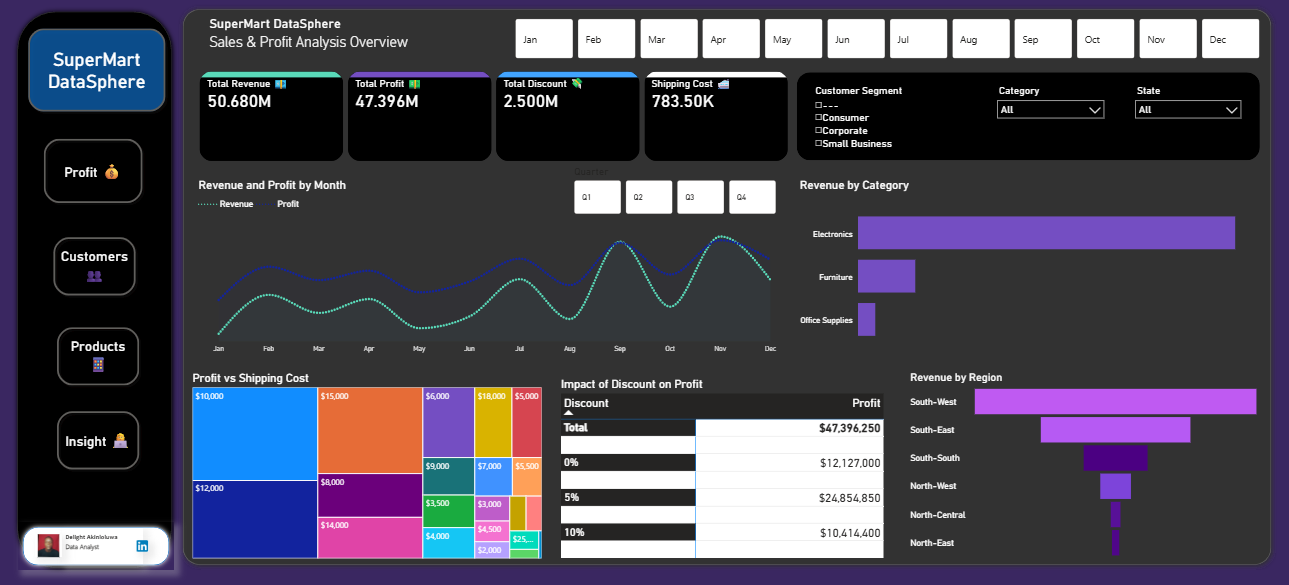

Layout of this report page (visuals, bound fields, positions):
{"tool":"powerbi","page":{"name":"SuperMart DataSphere","canvas":[2150,980],"ordinal":0},"visuals":[{"type":"shape","box":[295,7.5,1831.5,944],"z":0,"group":"g6"},{"type":"shape","box":[20,12.5,275,945],"z":0},{"type":"group","id":"g1","title":"Group 2","box":[315.1,28.4,1016.9,260.7],"z":0,"group":"g2"},{"type":"group","id":"g2","title":"Group 7","box":[315.1,28.4,1788.7,260.7],"z":0,"group":"g7"},{"type":"cardVisual","fields":{"Data":["Calculations.Total Revenue","Calculations.Total Profit","Sum(Calculations.Total Discount)","Calculations.Total Loss"]},"box":[315.1,104.1,1017.6,183.4],"z":0,"group":"g1"},{"type":"group","id":"g3","title":"Group 4","box":[1326.4,122.8,771.8,147],"z":0,"group":"g8"},{"type":"shape","box":[1326.4,122.8,771.8,147],"z":0,"group":"g3"},{"type":"listSlicer","fields":{"Values":["SuperMart Sales.CustomerSegment"]},"box":[1351.9,142.4,288.4,114.7],"z":0,"group":"g9"},{"type":"actionButton","title":"Profit BT","box":[63.3,223.3,182.5,125],"z":0,"group":"g15"},{"type":"lineChart","fields":{"Category":["Calendar_Date.Month"],"Y":["Sum(SuperMart Sales.Revenue)"],"Y2":["Sum(SuperMart Sales.Profit)"]},"box":[325.5,299.6,996.7,300.3],"z":0,"group":"g10"},{"type":"clusteredBarChart","title":"Revenue by Category","fields":{"Category":["SuperMart Sales.Category"],"Y":["Sum(SuperMart Sales.Revenue)"]},"box":[1328.2,299.6,775.5,300.3],"z":0,"group":"g13"},{"type":"actionButton","title":"Customer SBT","box":[78.3,385.8,155,115],"z":0,"group":"g11"},{"type":"group","id":"g4","title":"Product Button Group","box":[68.3,530.8,182.5,125],"z":0,"group":"g18"},{"type":"treemap","title":"Profit vs Shipping Cost","fields":{"Group":["SuperMart Sales.ShippingCost"],"Values":["Sum(SuperMart Sales.Profit)"]},"box":[315.1,620.7,592.1,317.1],"z":0,"group":"g12"},{"type":"shape","box":[30.4,871,259.9,80],"z":0,"group":"g5"},{"type":"group","id":"g5","title":"Group 11","box":[30.4,871,257.5,80],"z":0,"group":"g16"},{"type":"group","id":"g6","title":"Sales Dashboard","box":[295,7.5,1832.5,942.5],"z":1000},{"type":"group","id":"g7","title":"Group 1","box":[315.1,28.4,1788.7,919.7],"z":1000,"group":"g6"},{"type":"textbox","title":"SuperMart DataSphere","box":[342.4,28.4,592.8,85.7],"z":1000,"group":"g1"},{"type":"actionButton","title":"Profit SBT","box":[37.2,40.6,246.7,156.7],"z":1000,"group":"g17"},{"type":"group","id":"g8","title":"Group 5","box":[1326.4,122.8,771.8,147],"z":1000,"group":"g2"},{"type":"group","id":"g9","title":"Group 3","box":[1351.9,137.9,724.2,119.2],"z":1000,"group":"g3"},{"type":"slicer","fields":{"Values":["SuperMart Sales.Category"]},"box":[1649.8,137.9,198.5,75.1],"z":1000,"group":"g9"},{"type":"group","id":"g10","title":"Group 6","box":[325.5,278.7,996.7,321.2],"z":1000,"group":"g13"},{"type":"advancedSlicerVisual","fields":{"Values":["Calendar_Date.Quarter"]},"box":[952.5,278.7,346,85.5],"z":1000,"group":"g10"},{"type":"group","id":"g11","title":"Customer Button Group","box":[63.3,380.8,182.5,125],"z":1000,"group":"g18"},{"type":"actionButton","title":"Product SBT","box":[83.3,535.8,155,115],"z":1000,"group":"g4"},{"type":"group","id":"g12","title":"Group 9","box":[315.1,620.7,1788.7,327.4],"z":1000,"group":"g7"},{"type":"funnel","title":"Revenue by Region","fields":{"Category":["SuperMart Sales.Region"],"Y":["Sum(SuperMart Sales.Revenue)"]},"box":[1511.7,620.7,592.1,317.1],"z":1000,"group":"g12"},{"type":"actionButton","title":"Insight SBT","box":[85.8,675.8,155,115],"z":1000,"group":"g14"},{"type":"image","box":[57.8,891.8,45.6,38.4],"z":1000,"group":"g5"},{"type":"advancedSlicerVisual","fields":{"Values":["Calendar_Date.Month"]},"box":[853.1,28.4,1250.7,76.4],"z":2000,"group":"g2"},{"type":"slicer","fields":{"Values":["SuperMart Sales.State"]},"box":[1879.7,137.9,196.4,75.1],"z":2000,"group":"g9"},{"type":"group","id":"g13","title":"Group 8","box":[325.5,278.7,1778.2,321.2],"z":2000,"group":"g7"},{"type":"pivotTable","title":"Impact of Discount on Profit","fields":{"Rows":["SuperMart Sales.Discount"],"Values":["Sum(SuperMart Sales.Profit)"]},"box":[929.4,631.1,560,317],"z":2000,"group":"g12"},{"type":"group","id":"g14","title":"Insight Button Group","box":[73.3,668.3,182.5,125],"z":2000,"group":"g18"},{"type":"textbox","box":[104.9,879,133.8,62.4],"z":2000,"group":"g5"},{"type":"group","id":"g15","title":"Profit Button Group","box":[63.3,223.3,182.5,125],"z":3000,"group":"g18"},{"type":"group","id":"g16","title":"Group 2","box":[30.4,871,257.5,80],"z":3000},{"type":"image","box":[226.5,901.4,22.8,19.2],"z":3000,"group":"g5"},{"type":"group","id":"g17","title":"Profit Button Group","box":[37.2,38.4,246.7,158.9],"z":4000},{"type":"group","id":"g18","title":"Group 10","box":[63.3,223.3,190,570],"z":8000}]}

Visuals, with their boxes in screenshot pixels (x1, y1, x2, y2), scaled from the page's 2150x980 canvas onto the 1289x585 screenshot:
shape: 177 4 1275 568
shape: 12 7 177 572
"Group 2" group: 189 17 799 173
"Group 7" group: 189 17 1261 173
cardVisual - Calculations.Total Revenue x Calculations.Total Profit: 189 62 799 172
"Group 4" group: 795 73 1258 161
shape: 795 73 1258 161
listSlicer - SuperMart Sales.CustomerSegment: 811 85 983 153
"Profit BT" actionButton: 38 133 147 208
lineChart - Calendar_Date.Month x Sum(SuperMart Sales.Revenue): 195 179 793 358
"Revenue by Category" clusteredBarChart: 796 179 1261 358
"Customer SBT" actionButton: 47 230 140 299
"Product Button Group" group: 41 317 150 391
"Profit vs Shipping Cost" treemap: 189 371 544 560
shape: 18 520 174 568
"Group 11" group: 18 520 173 568
"Sales Dashboard" group: 177 4 1276 567
"Group 1" group: 189 17 1261 566
"SuperMart DataSphere" textbox: 205 17 561 68
"Profit SBT" actionButton: 22 24 170 118
"Group 5" group: 795 73 1258 161
"Group 3" group: 811 82 1245 153
slicer - SuperMart Sales.Category: 989 82 1108 127
"Group 6" group: 195 166 793 358
advancedSlicerVisual - Calendar_Date.Quarter: 571 166 778 217
"Customer Button Group" group: 38 227 147 302
"Product SBT" actionButton: 50 320 143 388
"Group 9" group: 189 371 1261 566
"Revenue by Region" funnel: 906 371 1261 560
"Insight SBT" actionButton: 51 403 144 472
image: 35 532 62 555
advancedSlicerVisual - Calendar_Date.Month: 511 17 1261 63
slicer - SuperMart Sales.State: 1127 82 1245 127
"Group 8" group: 195 166 1261 358
"Impact of Discount on Profit" pivotTable: 557 377 893 566
"Insight Button Group" group: 44 399 153 474
textbox: 63 525 143 562
"Profit Button Group" group: 38 133 147 208
"Group 2" group: 18 520 173 568
image: 136 538 149 550
"Profit Button Group" group: 22 23 170 118
"Group 10" group: 38 133 152 474
